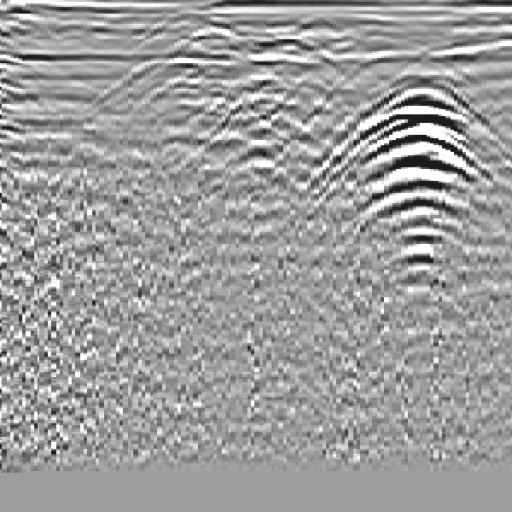metalic: (328, 82, 500, 291)
